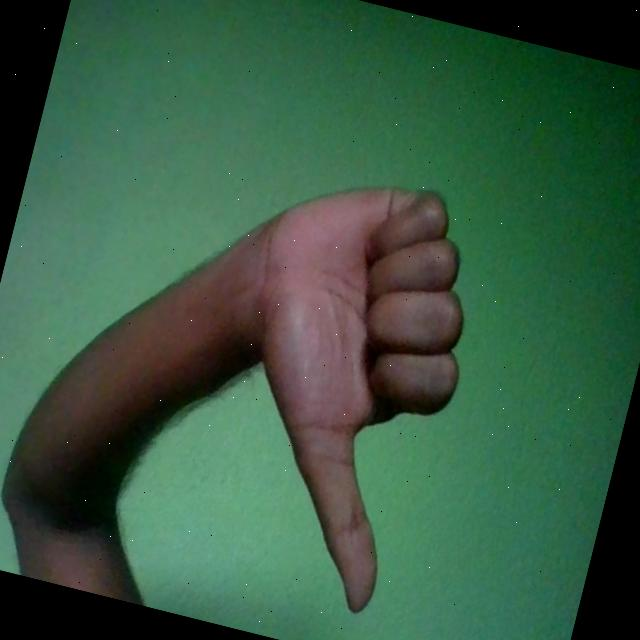Dislike: (183, 155, 501, 625)
